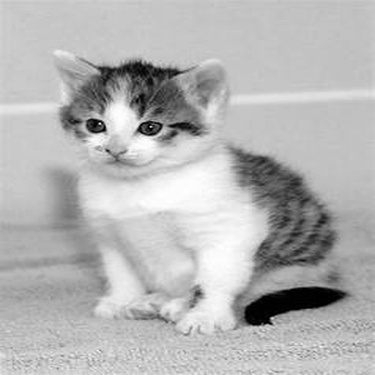cat: (53, 46, 348, 337)
